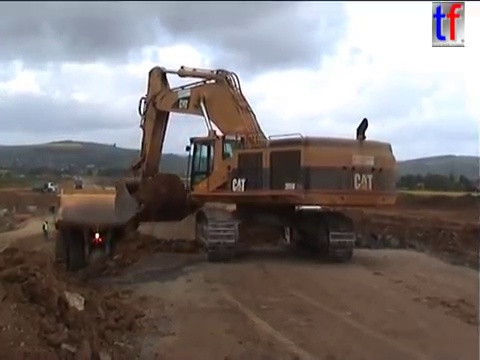excavator: (112, 63, 399, 265)
truck: (49, 186, 149, 272), (30, 180, 58, 193)
worker: (40, 216, 50, 240)
